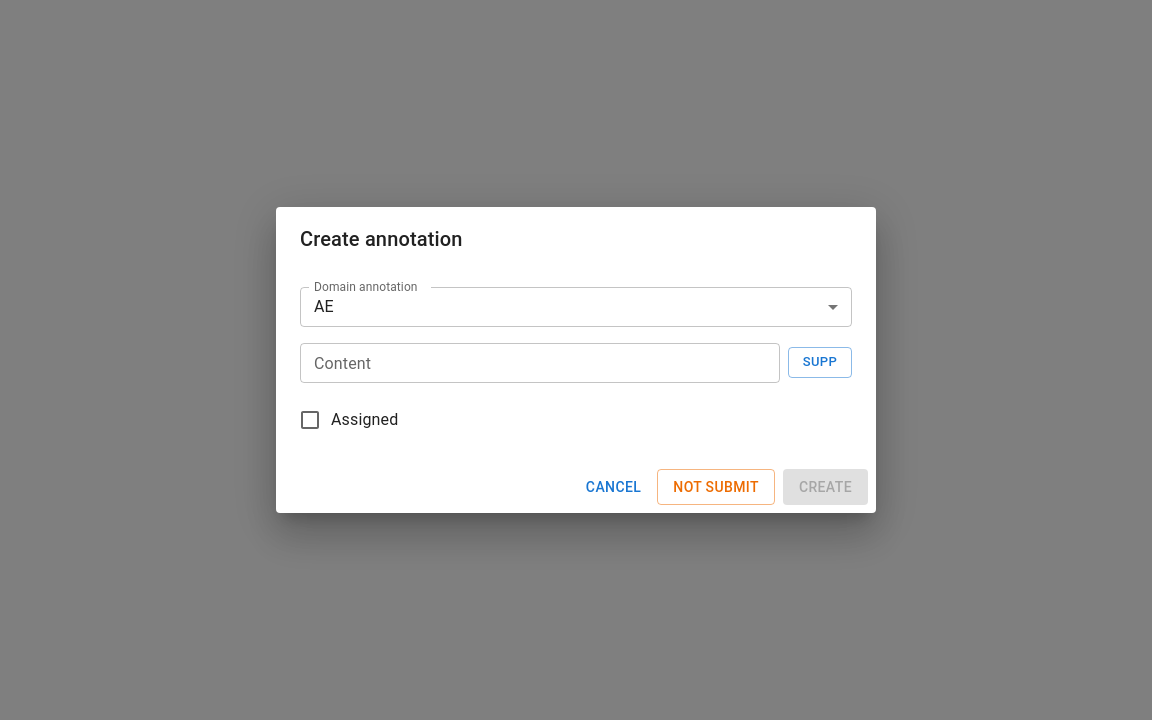
Test: AnnotationDialog › focus stays on the content TextField after the dropdown opens
Type "@" into the field labelled "Content" at [540, 363], box [300,343,780,383]
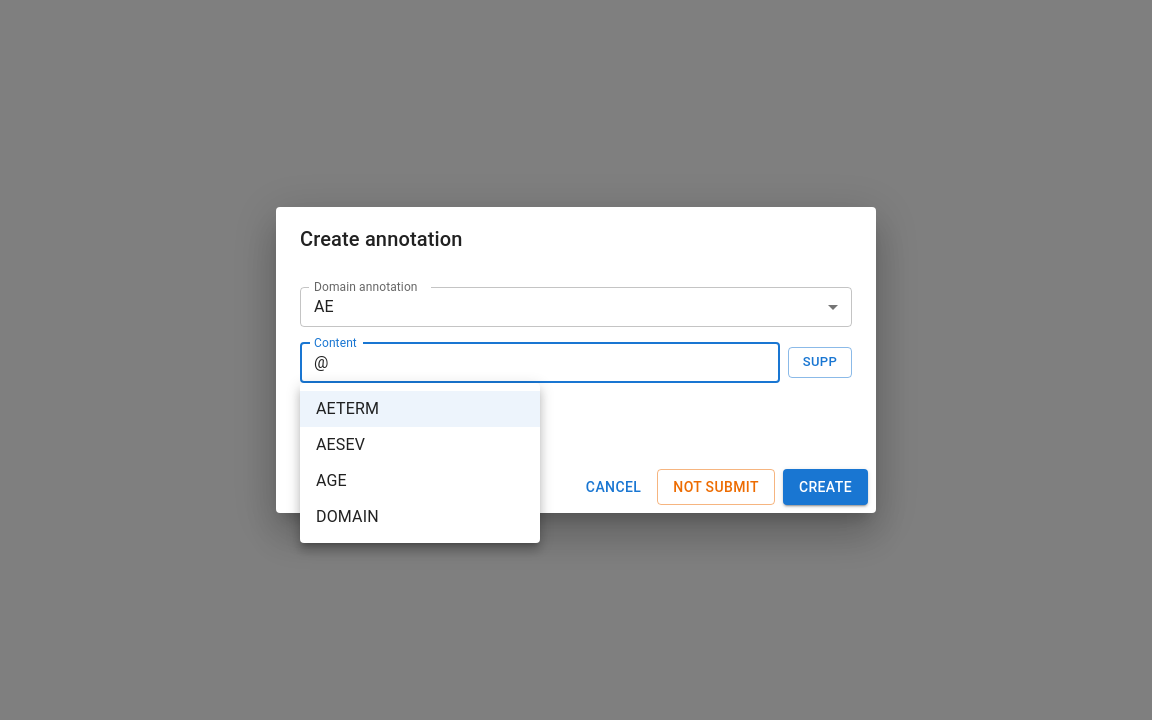
Result: the menu item with test id "crf-variable-1" is shown at [300,391,540,427]
